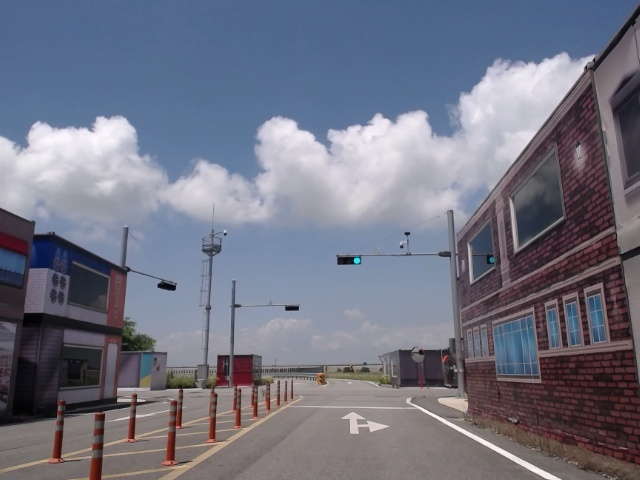green_3: (338, 256, 361, 264)
